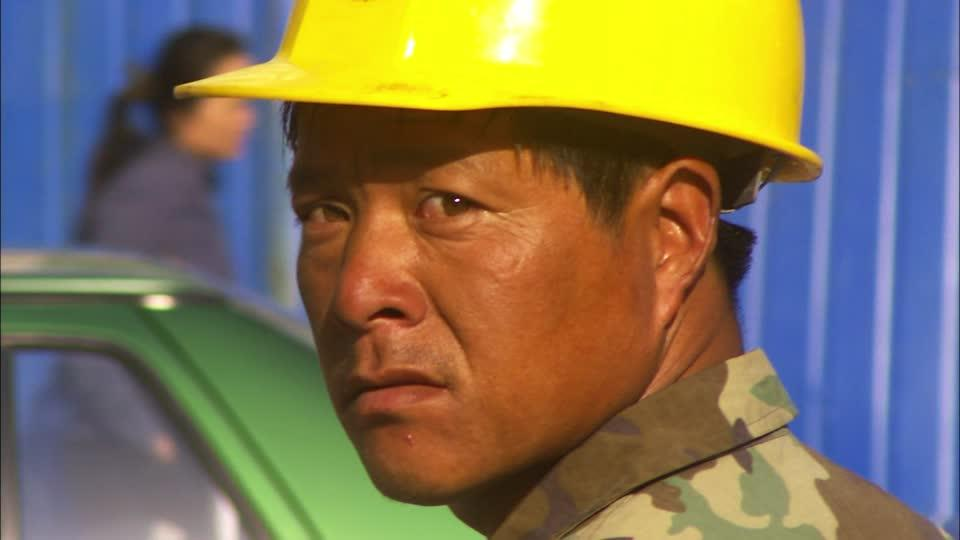helmet: (172, 1, 823, 187)
